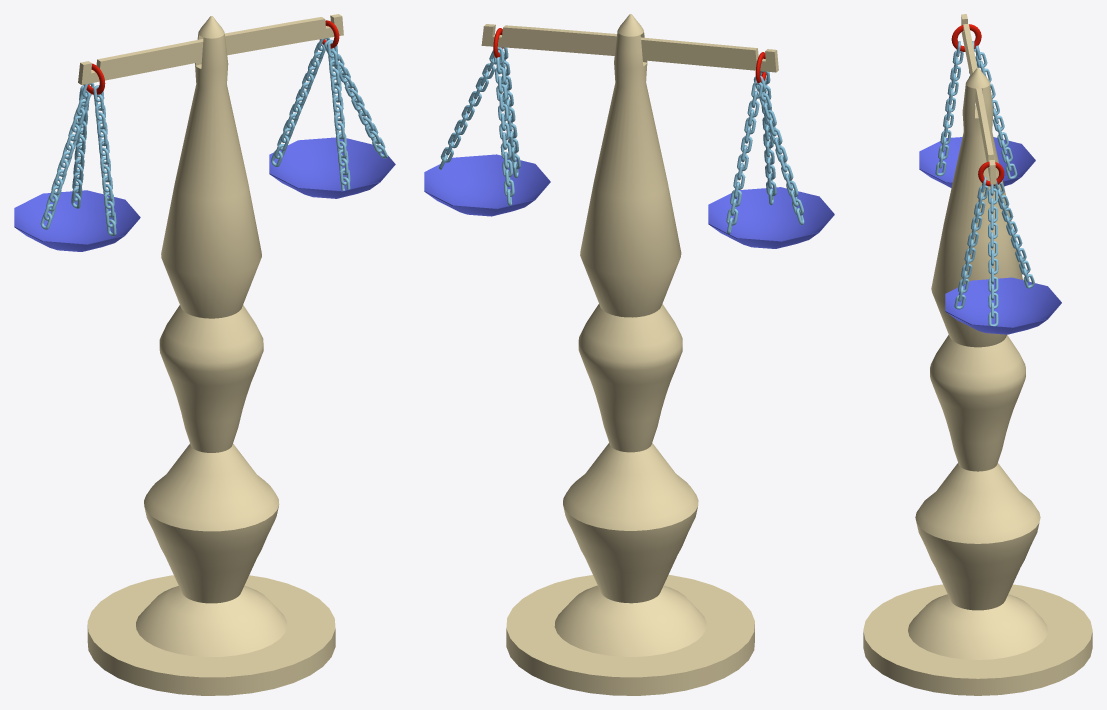
The model's file is Weegschaal.fbx.
The picture shows the model from 3 angles, left to right: view 1: azimuth 30°, elevation 25°; view 2: azimuth 150°, elevation 25°; view 3: azimuth 270°, elevation 25°; orthographic projection. The views are drawn at different scales.
Parts seen in each view (by area): view 1: Cylinder.006; view 2: Cylinder.006; view 3: Cylinder.006.
Part boxes in pixels (left/top/right/bottom): Cylinder.006: left=14, top=14, right=395, bottom=695; Cylinder.006: left=424, top=14, right=834, bottom=695; Cylinder.006: left=863, top=14, right=1092, bottom=695.
Size of the model in its own units: 61.83 by 97.46 by 35.
